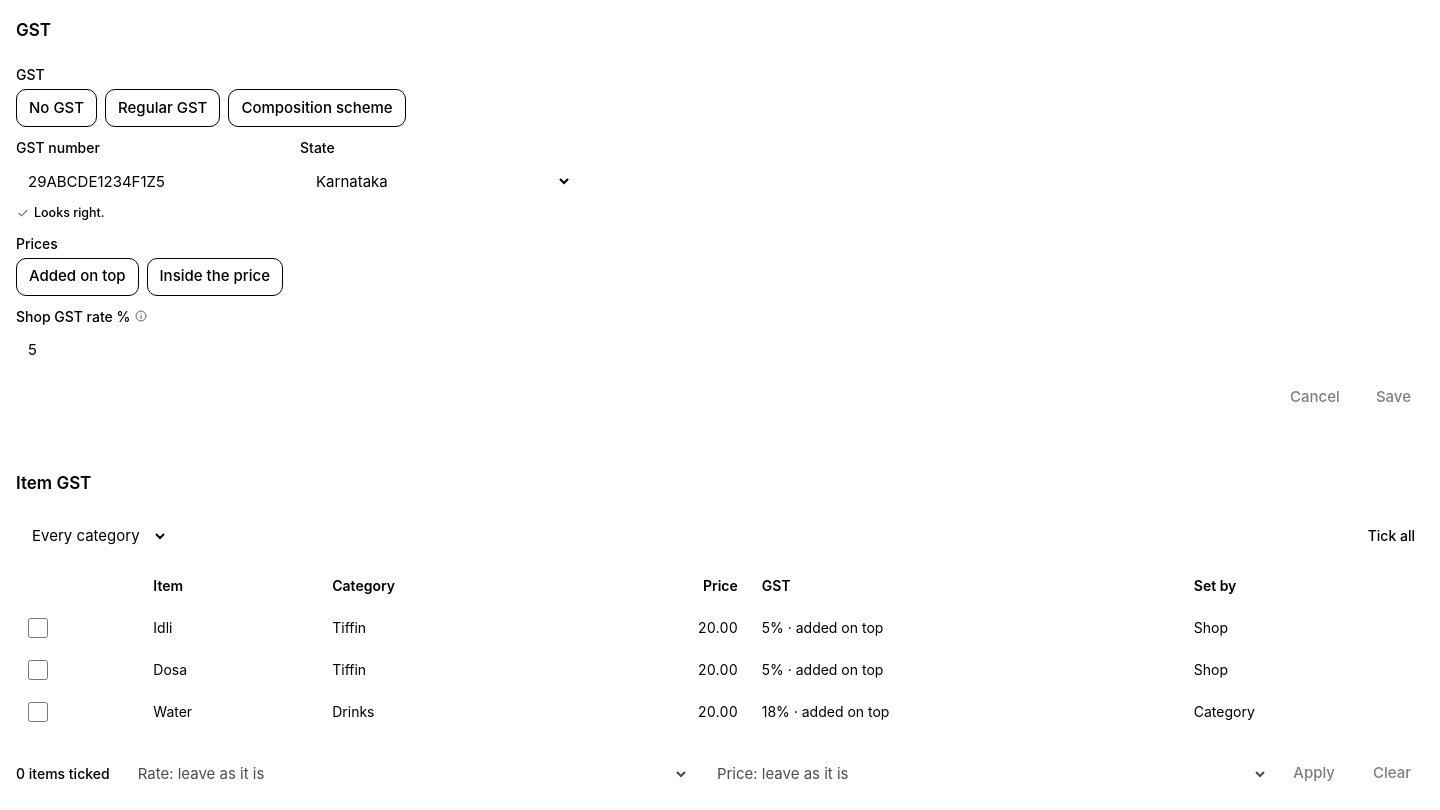
the GST card › keeps the number for a composition shop, which has one but charges nothing
Check: the field labelled "Shop GST rate %" is shown, box x1=16 y1=331 x2=288 y2=369
What coordinates should you click on to do the following:
click the button "Composition scheme"
I would click on:
 (317, 108)
Its box is x1=228 y1=89 x2=406 y2=127.
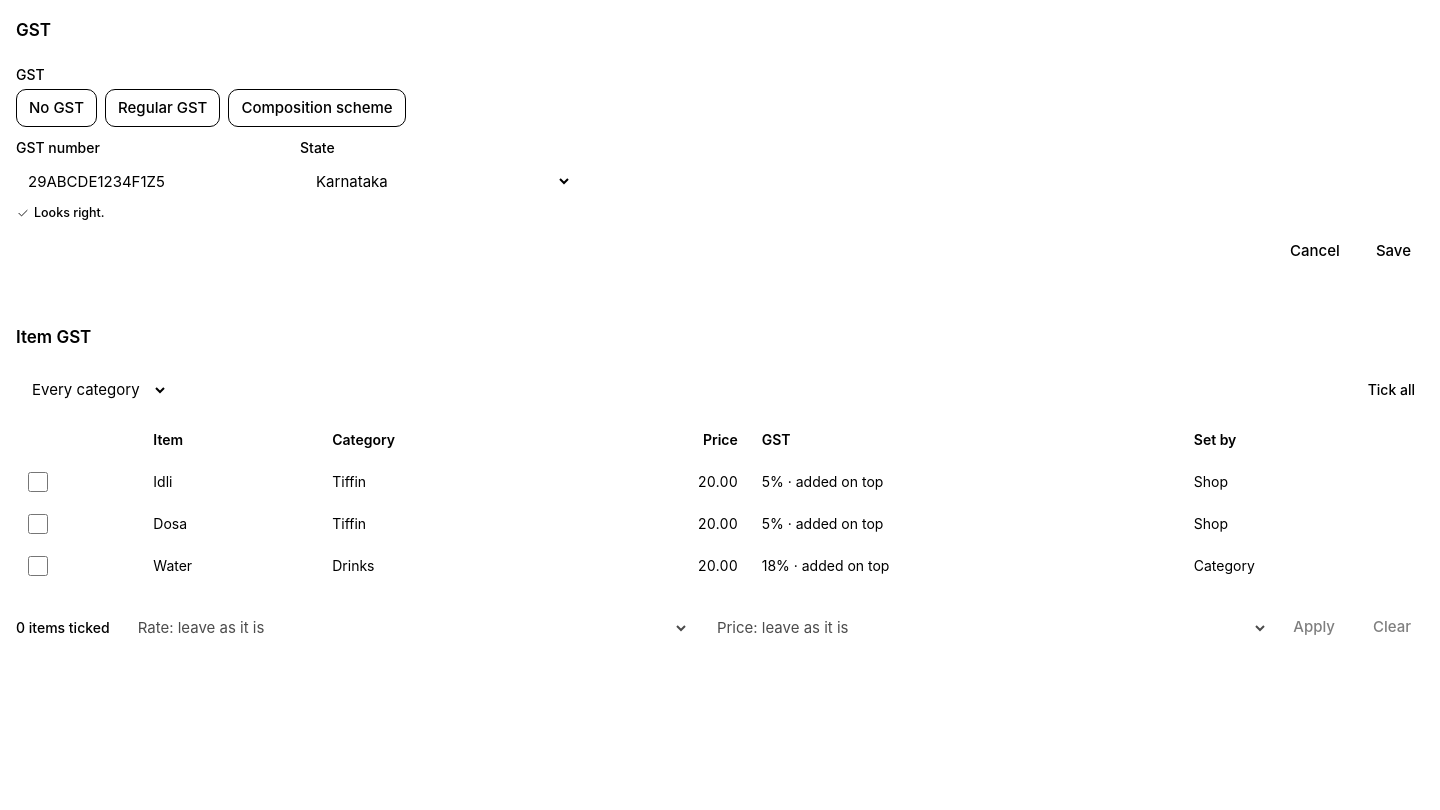
Check: the field labelled "GST number" is shown, box x1=16 y1=162 x2=288 y2=200
Check: the label labelled "Shop GST rate %" is gone
